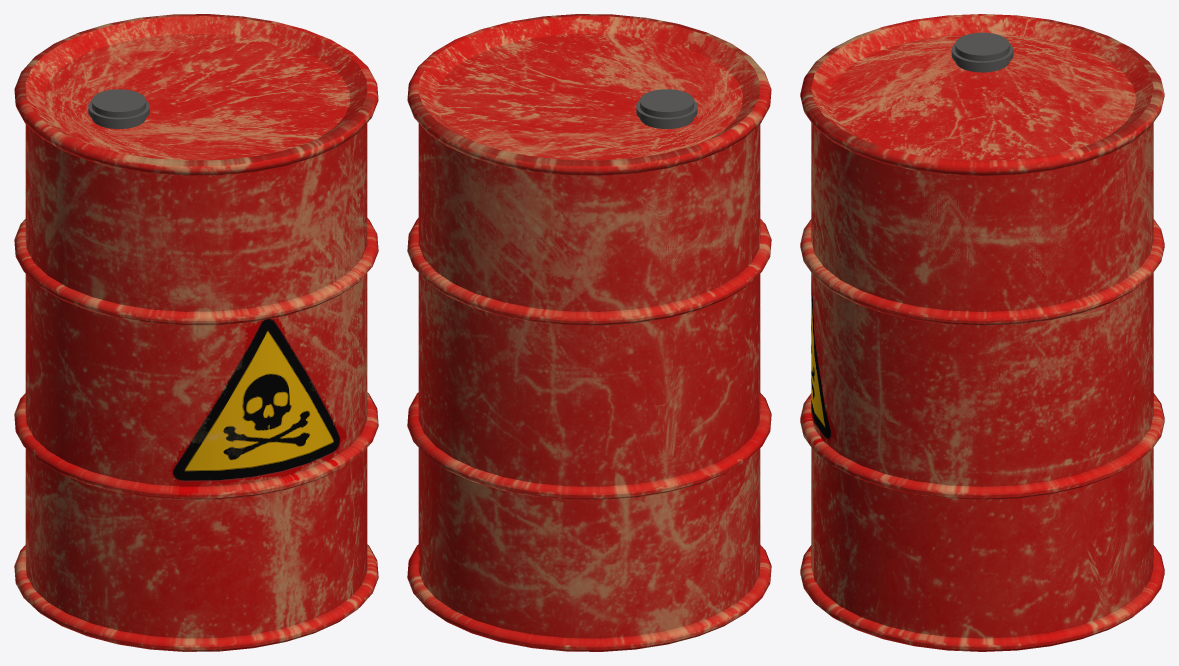
File: BarrelWholeAndPieces.glb
3 views of the same model, side by side, from view 1: azimuth 30°, elevation 25°; view 2: azimuth 150°, elevation 25°; view 3: azimuth 270°, elevation 25° (orthographic).
Visible parts, largest first — view 1: BarrelWhole, BarrelPiece.002, BarrelPiece.001, BarrelPiece.005, BarrelPiece.003, BarrelPiece.004; view 2: BarrelWhole, BarrelPiece.004, BarrelPiece.005, BarrelPiece.003, BarrelPiece.001, BarrelPiece.002; view 3: BarrelWhole, BarrelPiece.003, BarrelPiece.005, BarrelPiece.002, BarrelPiece.001, BarrelPiece.004.
Boxes of the visible parts, <box> form: BarrelWhole: <box>14,14,378,651</box>; BarrelPiece.002: <box>25,24,367,298</box>; BarrelPiece.001: <box>17,219,375,624</box>; BarrelPiece.005: <box>15,413,377,622</box>; BarrelPiece.003: <box>334,203,367,362</box>; BarrelPiece.004: <box>14,168,53,321</box>; BarrelWhole: <box>407,14,771,651</box>; BarrelPiece.004: <box>420,154,739,439</box>; BarrelPiece.005: <box>418,406,757,633</box>; BarrelPiece.003: <box>418,192,593,527</box>; BarrelPiece.001: <box>657,188,761,598</box>; BarrelPiece.002: <box>418,124,760,245</box>; BarrelWhole: <box>800,14,1164,651</box>; BarrelPiece.003: <box>814,199,1163,538</box>; BarrelPiece.005: <box>867,403,1161,638</box>; BarrelPiece.002: <box>809,64,1164,278</box>; BarrelPiece.001: <box>805,221,960,632</box>; BarrelPiece.004: <box>1086,74,1164,336</box>.
Bounding box in the file's own units: 2.13 × 3.19 × 2.13.
Materials: 4 (2 with a texture image).
